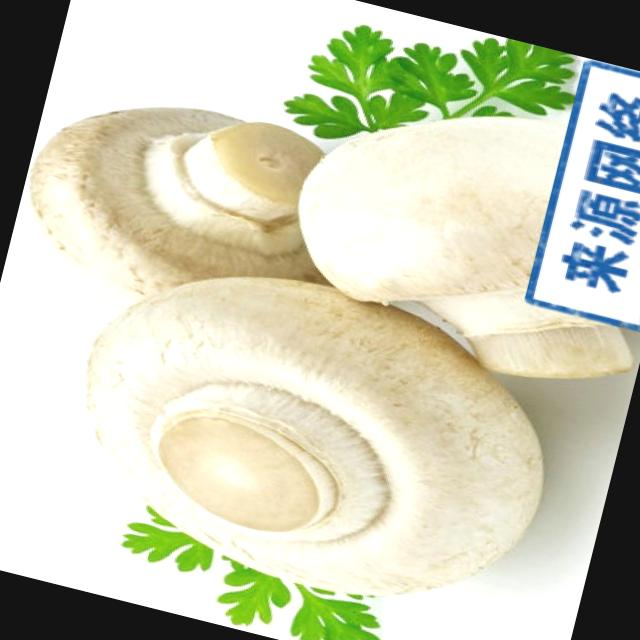Agaricus bisporus: (48, 235, 576, 633), (271, 66, 640, 390), (4, 69, 328, 346)
